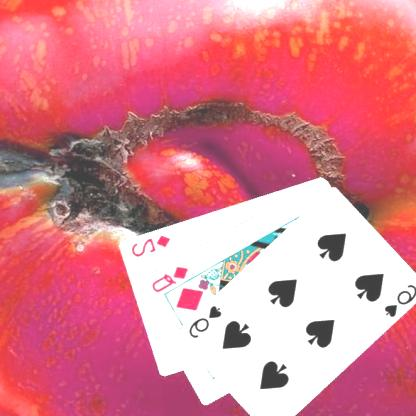2D: (130, 232, 173, 258)
6S: (187, 302, 225, 340), (383, 280, 416, 319)
QD: (150, 263, 191, 294)
